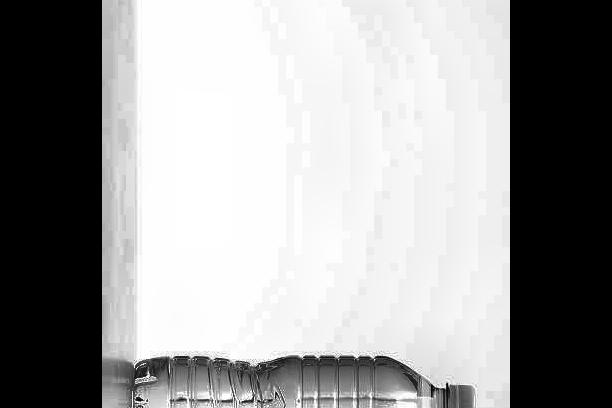waterbottle: (114, 321, 489, 408)
